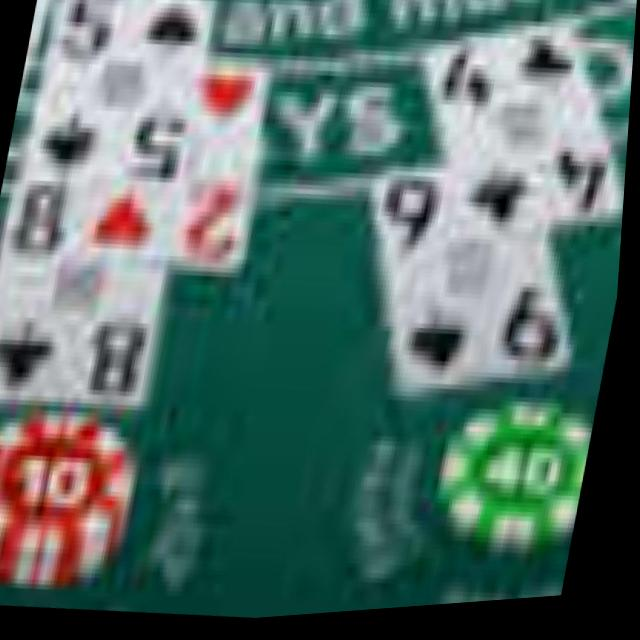Card-2: (85, 73, 271, 275)
Card-4: (429, 30, 627, 242)
Card-5: (31, 0, 217, 183)
Card-8: (0, 168, 170, 409)
Card-9: (376, 177, 576, 400)
